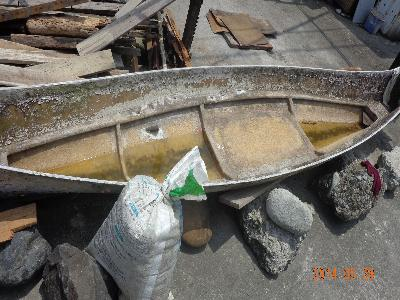plastic_bag: (85, 146, 209, 300)
